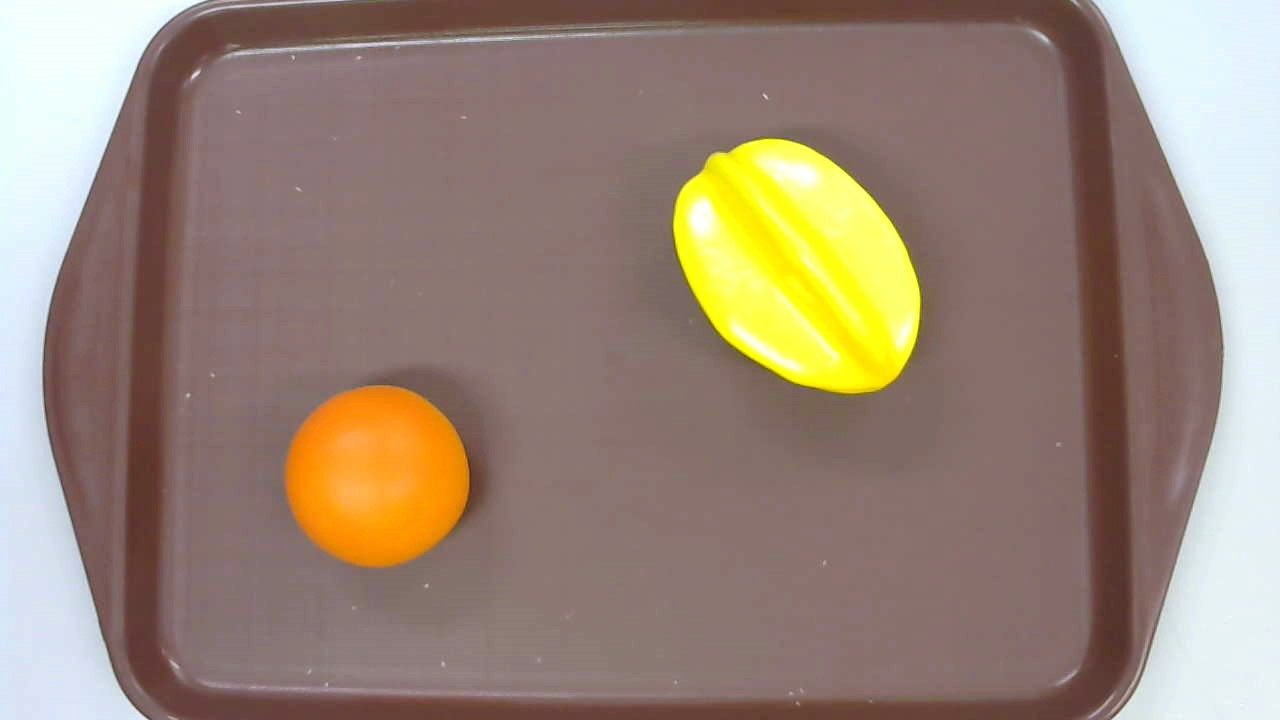bun: (285, 384, 470, 568)
star fruit: (674, 139, 920, 396)
